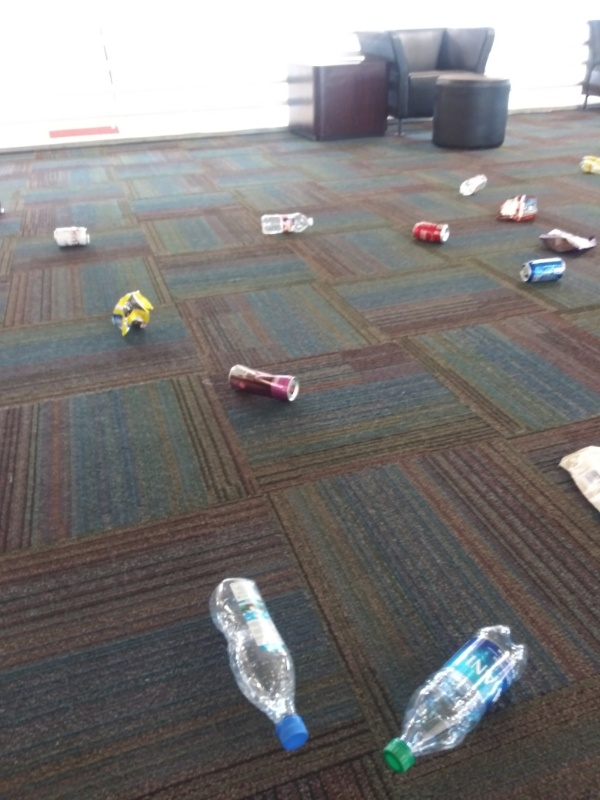bag: (551, 439, 600, 527), (106, 288, 160, 342), (534, 225, 600, 259), (492, 190, 542, 226)
bottle: (380, 619, 532, 775), (205, 573, 313, 757), (255, 209, 320, 239), (456, 170, 492, 197), (576, 152, 600, 183)
can: (220, 362, 303, 406), (517, 257, 572, 287), (407, 219, 453, 249), (47, 224, 95, 249)
